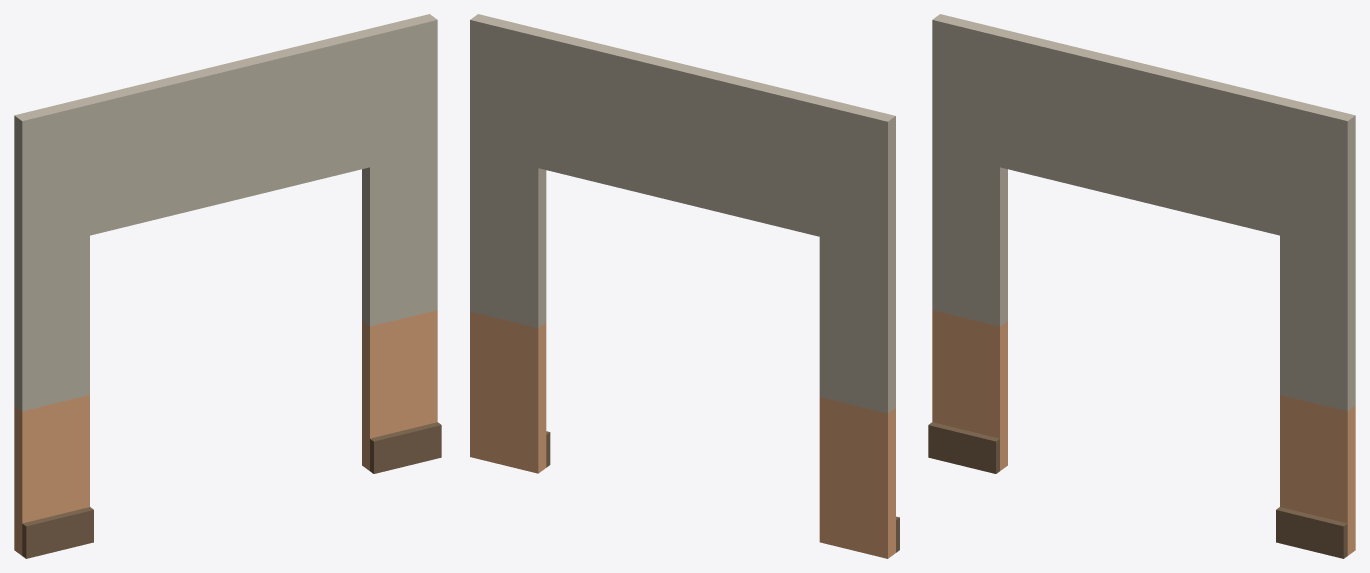
File: Mesh_WallBaseboard2Colors_C4.fbx
3 views of the same model, side by side, from view 1: azimuth 30°, elevation 25°; view 2: azimuth 150°, elevation 25°; view 3: azimuth 330°, elevation 25° (orthographic).
Visible parts, largest first — view 1: Mesh_WallBaseboard2Colors_C4; view 2: Mesh_WallBaseboard2Colors_C4; view 3: Mesh_WallBaseboard2Colors_C4.
Boxes of the visible parts, x1,y1,x2,y2 form: Mesh_WallBaseboard2Colors_C4: (14,14,441,558); Mesh_WallBaseboard2Colors_C4: (470,14,899,558); Mesh_WallBaseboard2Colors_C4: (928,14,1355,558).
Size of the model in its own units: 3 by 3 by 0.15.
